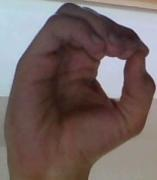O: (2, 3, 157, 169)
